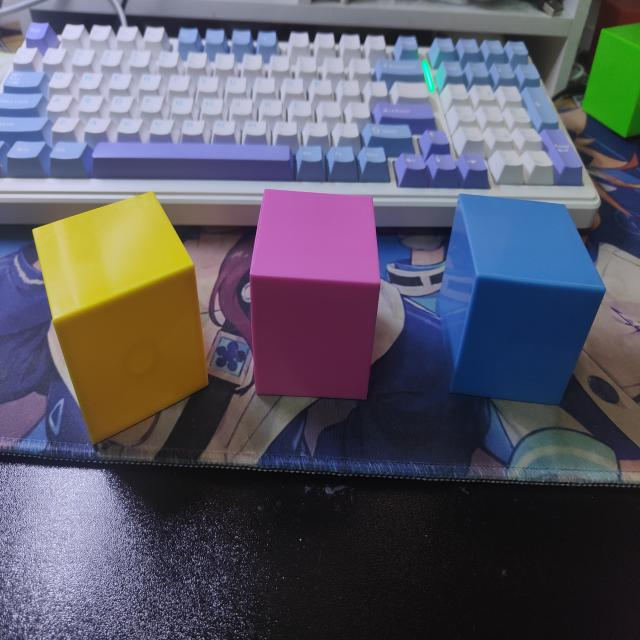blue: (439, 191, 606, 412)
pink: (248, 190, 383, 402)
yellow: (31, 191, 211, 448)
